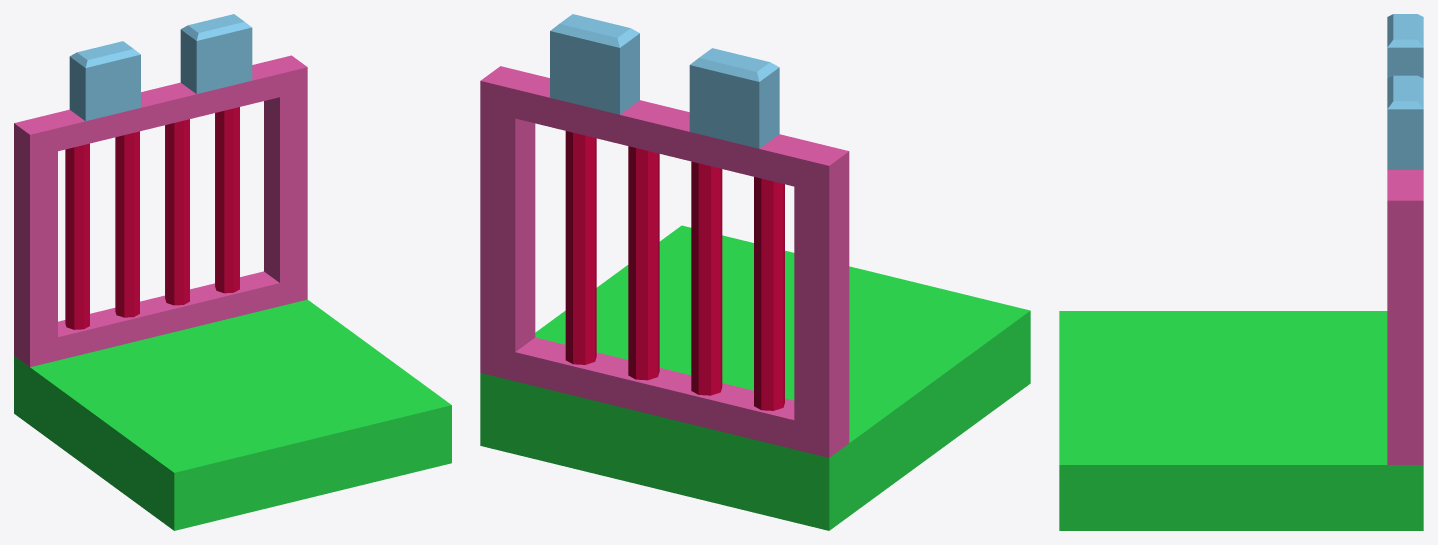
File: Playground Straight.fbx
The picture shows the model from 3 angles, left to right: view 1: azimuth 30°, elevation 25°; view 2: azimuth 150°, elevation 25°; view 3: azimuth 270°, elevation 25°; orthographic projection. The views are drawn at different scales.
Visible parts, largest first — view 1: Playground Straight; view 2: Playground Straight; view 3: Playground Straight.
Boxes of the visible parts, <box> form: Playground Straight: <box>14,14,451,530</box>; Playground Straight: <box>480,14,1030,530</box>; Playground Straight: <box>1059,14,1423,530</box>.
Bounding box in the file's own units: 100 × 120 × 100.
